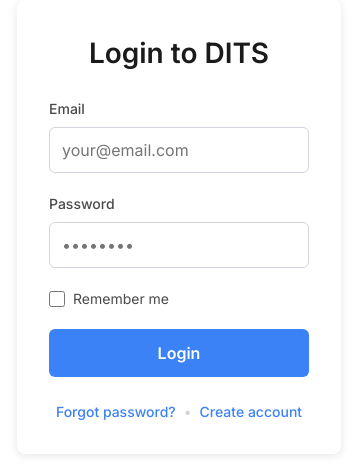
Test case: LoginForm - Validation Logic › should disable form inputs while submitting
Type "test@example.com" into the field labelled "Email" at (179, 150), box [49,127,309,173]
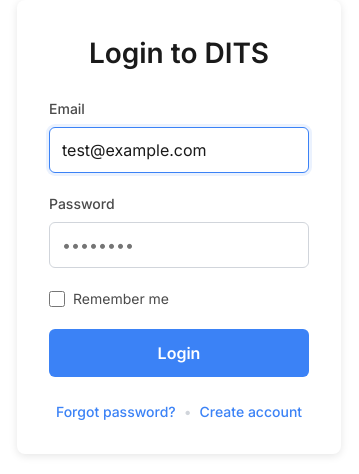
Type "password123" into the password field labelled "Password" at (179, 245), box [49,222,309,268]
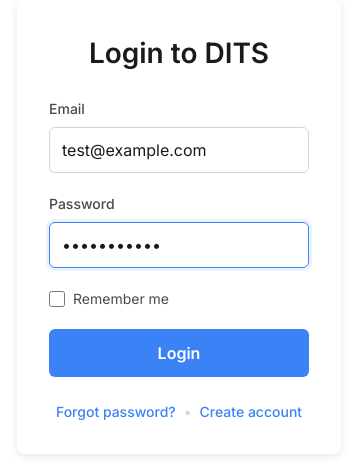
Click the button "Login" at (179, 353), box [49,329,309,377]
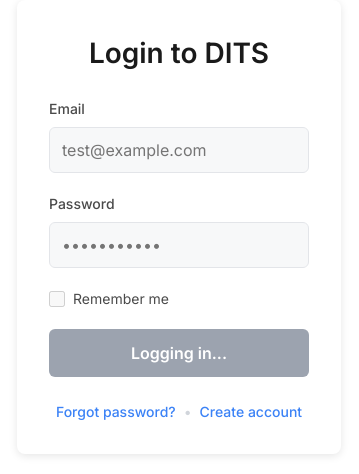
Now the field labelled "Email" is disabled, box [49,127,309,173]
Now the password field labelled "Password" is disabled, box [49,222,309,268]
Now the checkbox labelled "Remember me" is disabled, box [49,290,65,306]
